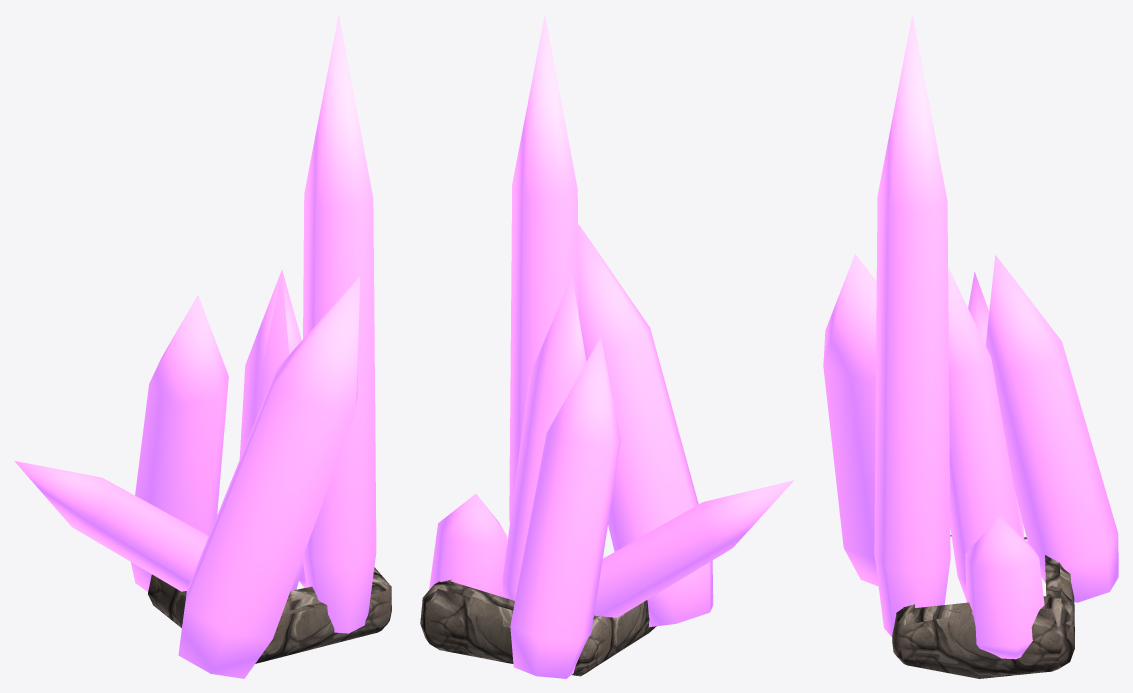
File: umbrium.glb
3 renders of one model, left to right at view 1: azimuth 30°, elevation 25°; view 2: azimuth 150°, elevation 25°; view 3: azimuth 270°, elevation 25°, orthographic. The views are drawn at different scales.
Visible parts, largest first — view 1: Crystals; view 2: Crystals; view 3: Crystals.
Part boxes in pixels (<box>): Crystals: <box>14,14,391,678</box>; Crystals: <box>420,15,793,678</box>; Crystals: <box>823,14,1118,678</box>.
Size of the model in its own units: 1.83 by 3.05 by 1.26.
Materials: 2 (1 with a texture image).
